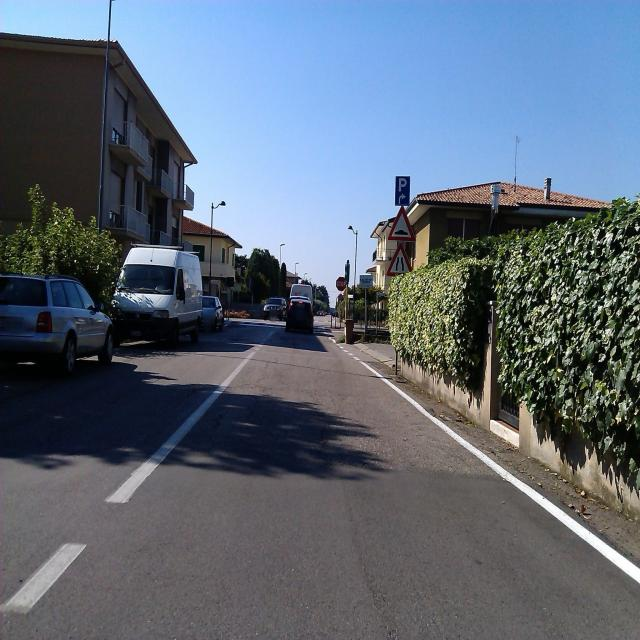car: (0, 272, 114, 376), (110, 244, 203, 348), (285, 282, 314, 334), (201, 294, 224, 332), (262, 296, 286, 321), (316, 308, 326, 317)
